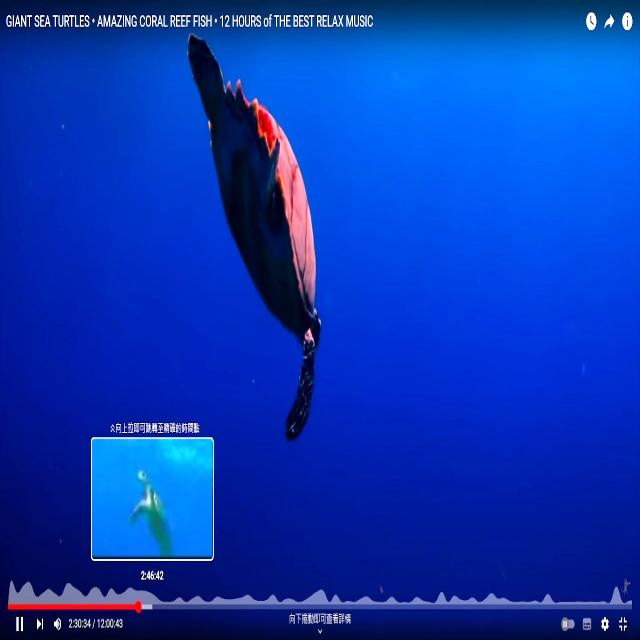Sea turtle: (184, 37, 326, 434)
